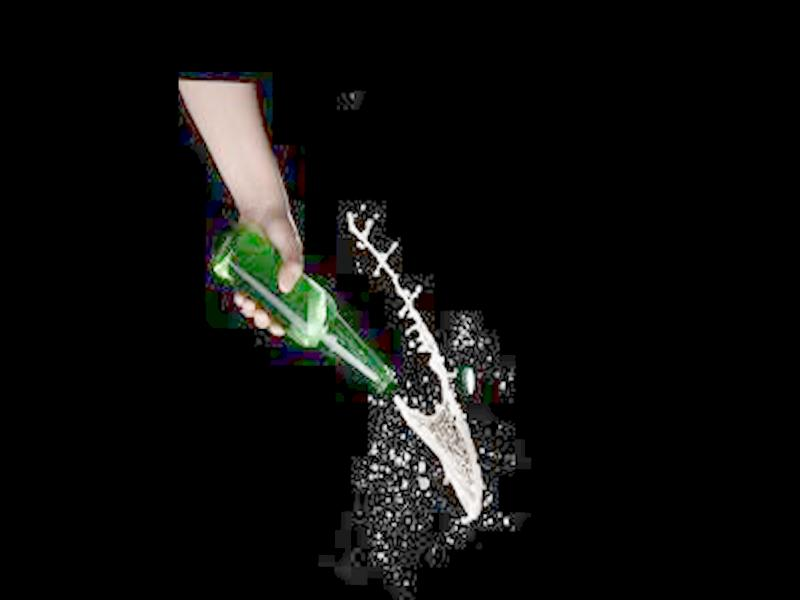Beer: (209, 223, 393, 391)
